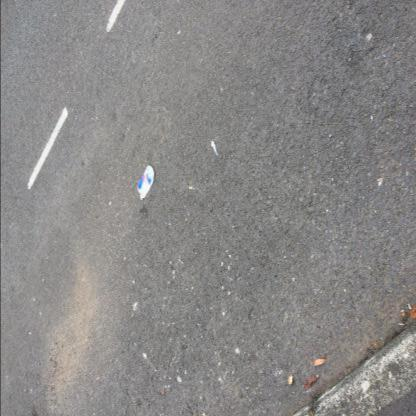Can: (137, 166, 154, 201)
Unlabeled litter: (211, 141, 218, 156)
